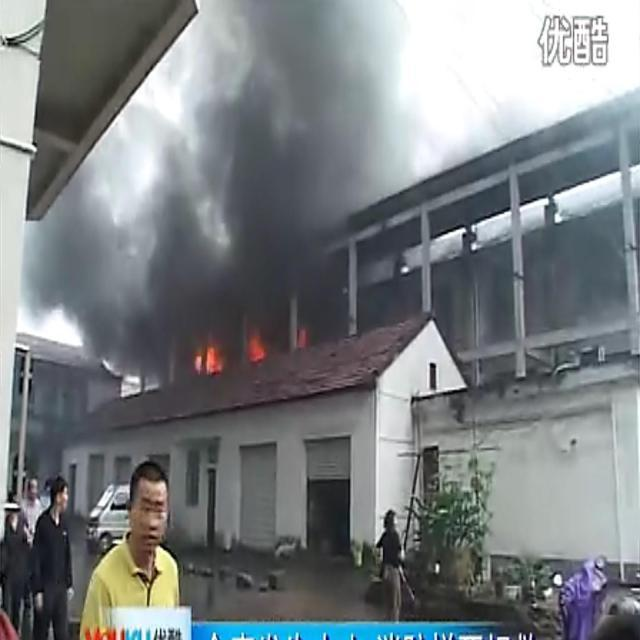Fire: (196, 338, 226, 372), (246, 328, 266, 361)
Smoke: (19, 1, 427, 392)
